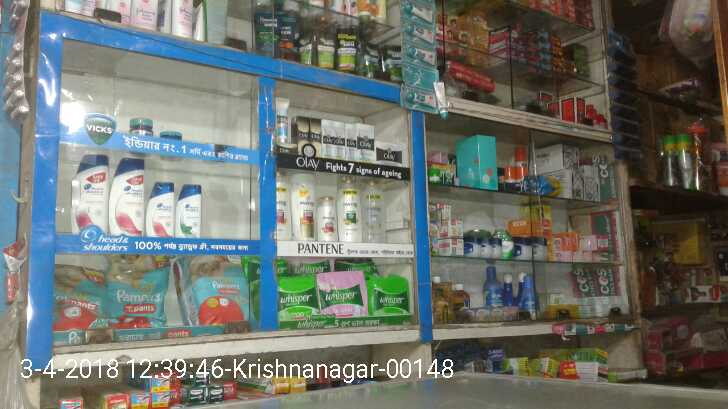vicks: (128, 113, 191, 143)
